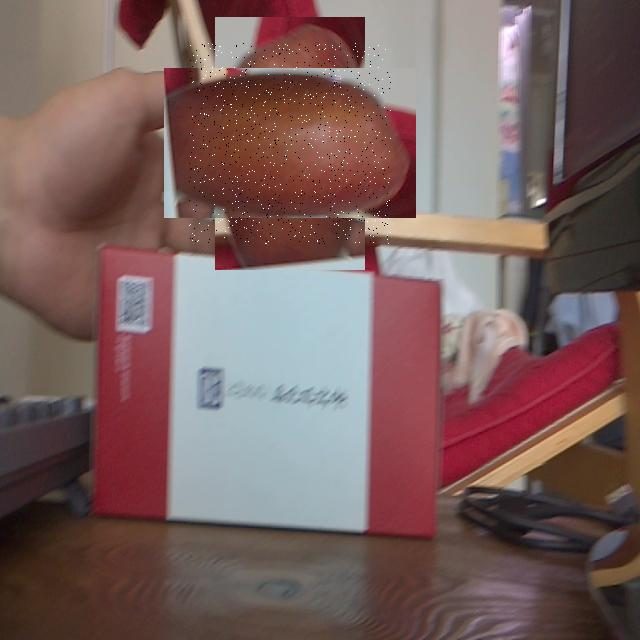apple: (189, 43, 391, 244)
